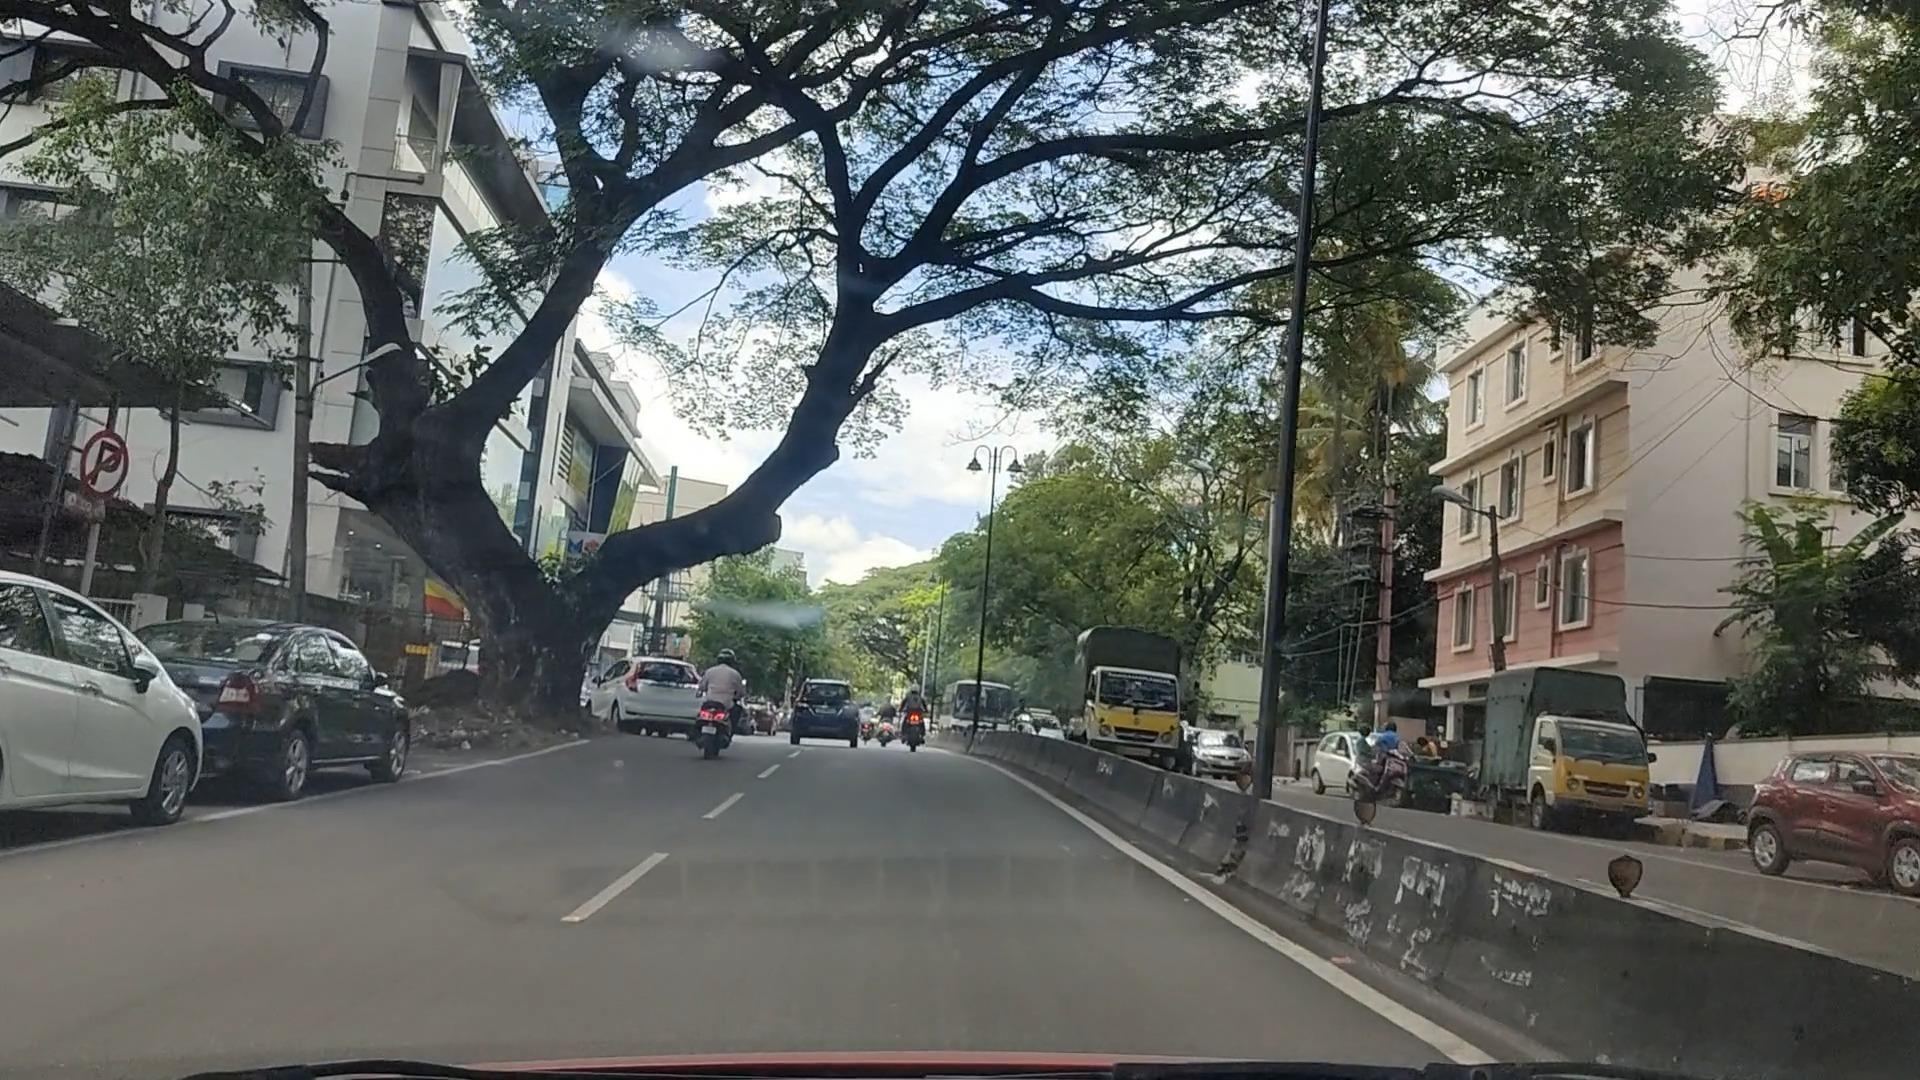LMV: (116, 618, 419, 796)
